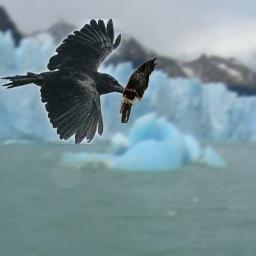Crow: (0, 19, 130, 144), (119, 56, 159, 123)
